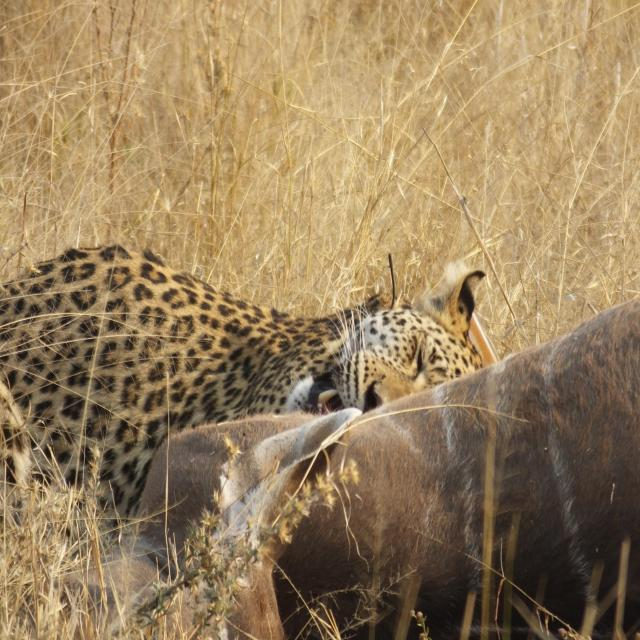Leopard: (0, 245, 494, 550)
